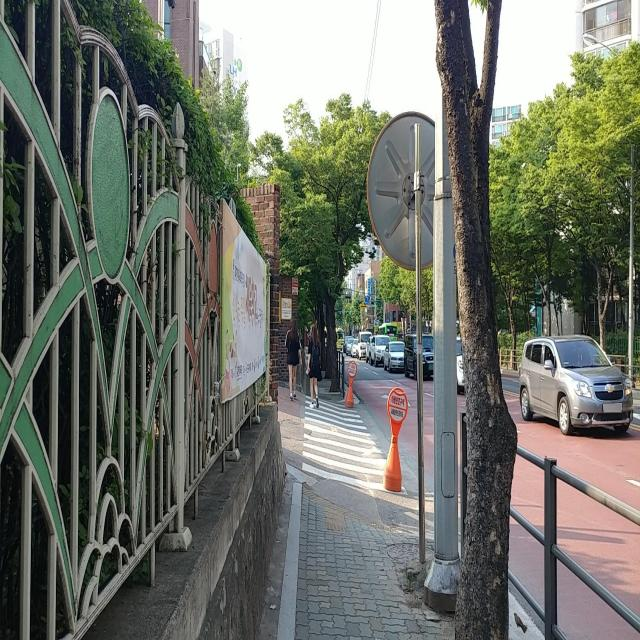횡단보도: (301, 394, 410, 496)
